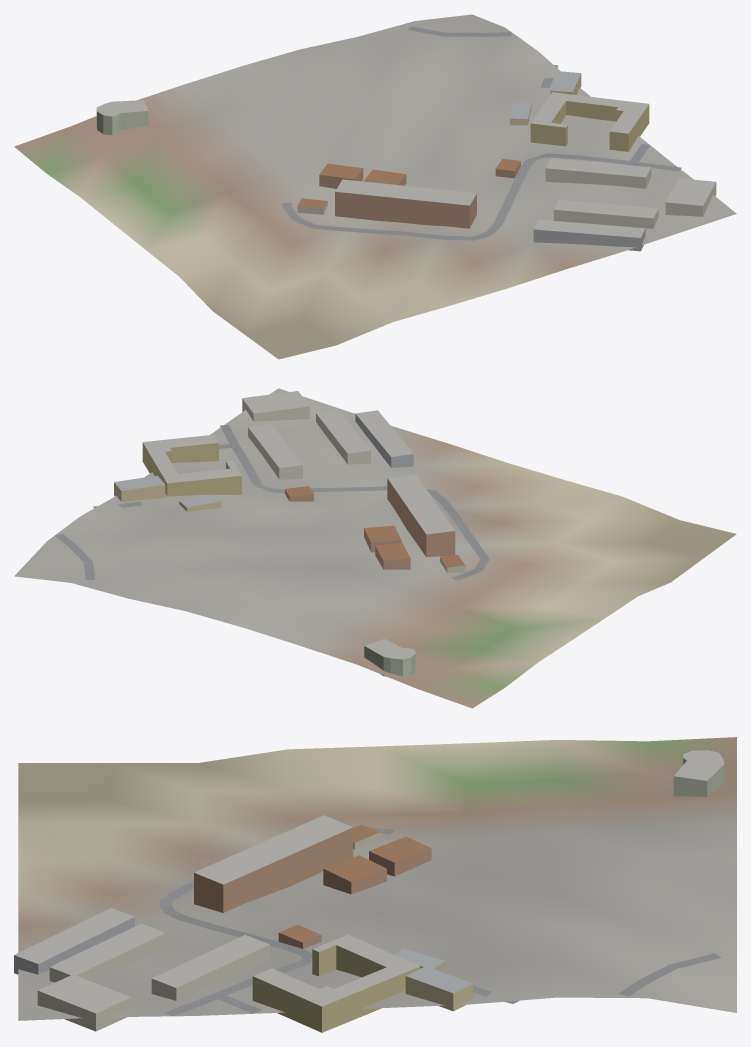
The picture shows the model from 3 angles, top to bottom: view 1: azimuth 30°, elevation 25°; view 2: azimuth 150°, elevation 25°; view 3: azimuth 270°, elevation 25°; orthographic projection. The views are drawn at different scales.
Parts seen in each view (by area): view 1: Lo; view 2: Lo; view 3: Lo.
Boxes of the visible parts, x1=… form: Lo: x1=14, y1=14, x2=736, y2=359; Lo: x1=14, y1=388, x2=736, y2=708; Lo: x1=14, y1=737, x2=736, y2=1032.
Size of the model in its own units: 270 by 30.03 by 258.
